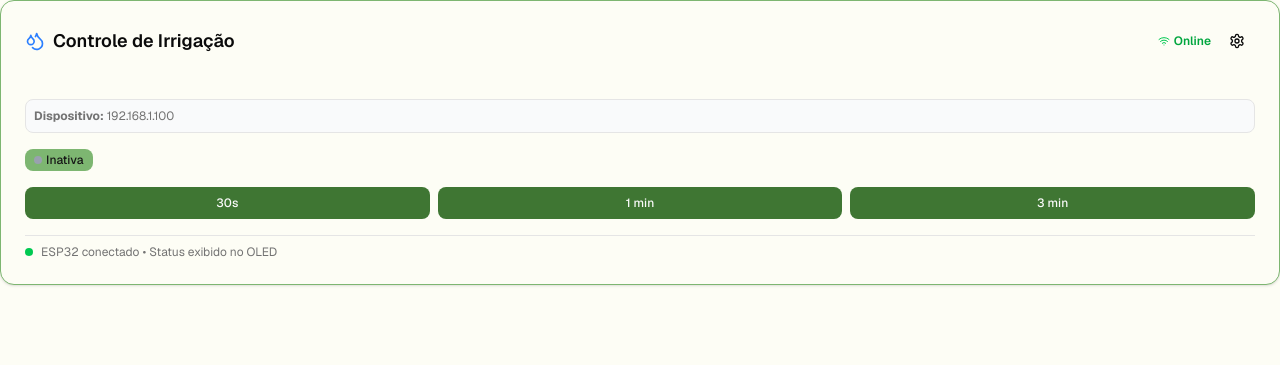
SimplePumpQuickControl › should show error alert when device operation fails
Click the button "30s". click: {"x": 227, "y": 203}
box: [25, 187, 430, 219]
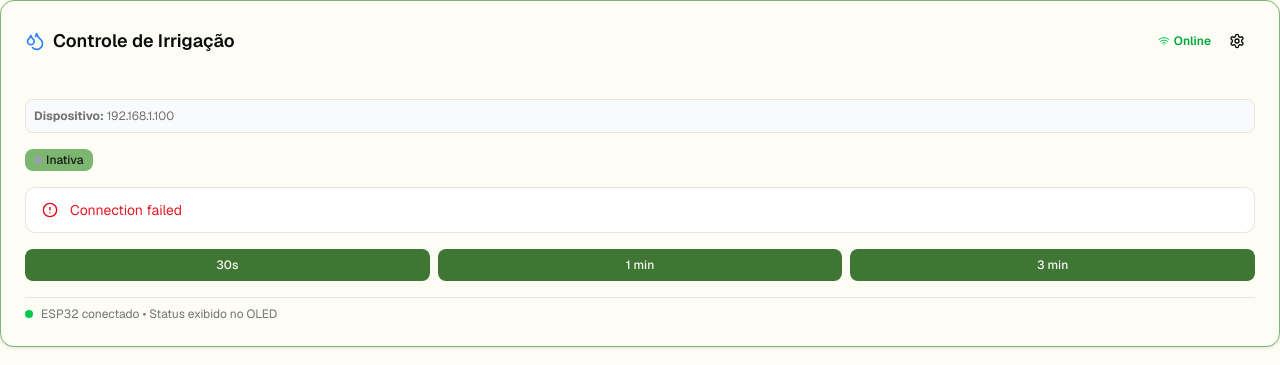
Result: the text "Connection failed" is shown at [70, 201, 182, 219]
